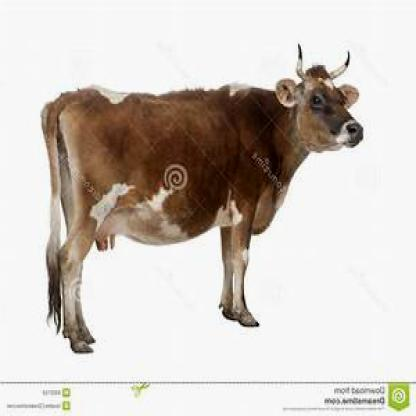cow: (33, 42, 365, 356)
